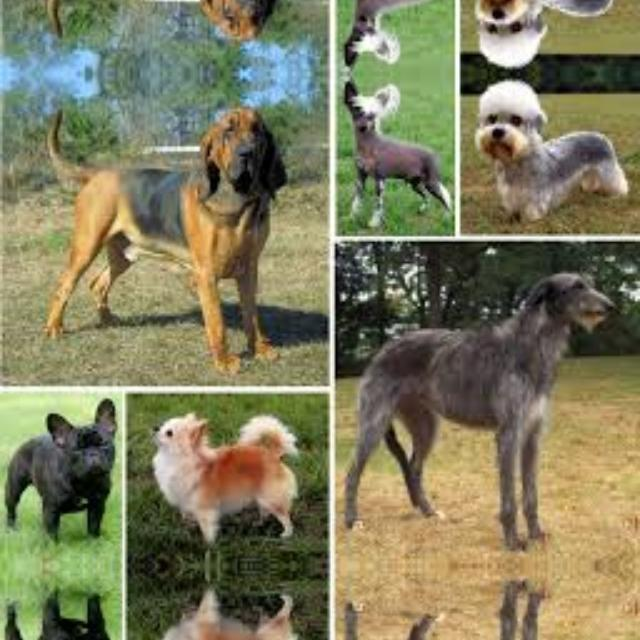dog: (39, 96, 293, 368), (39, 0, 293, 50)
